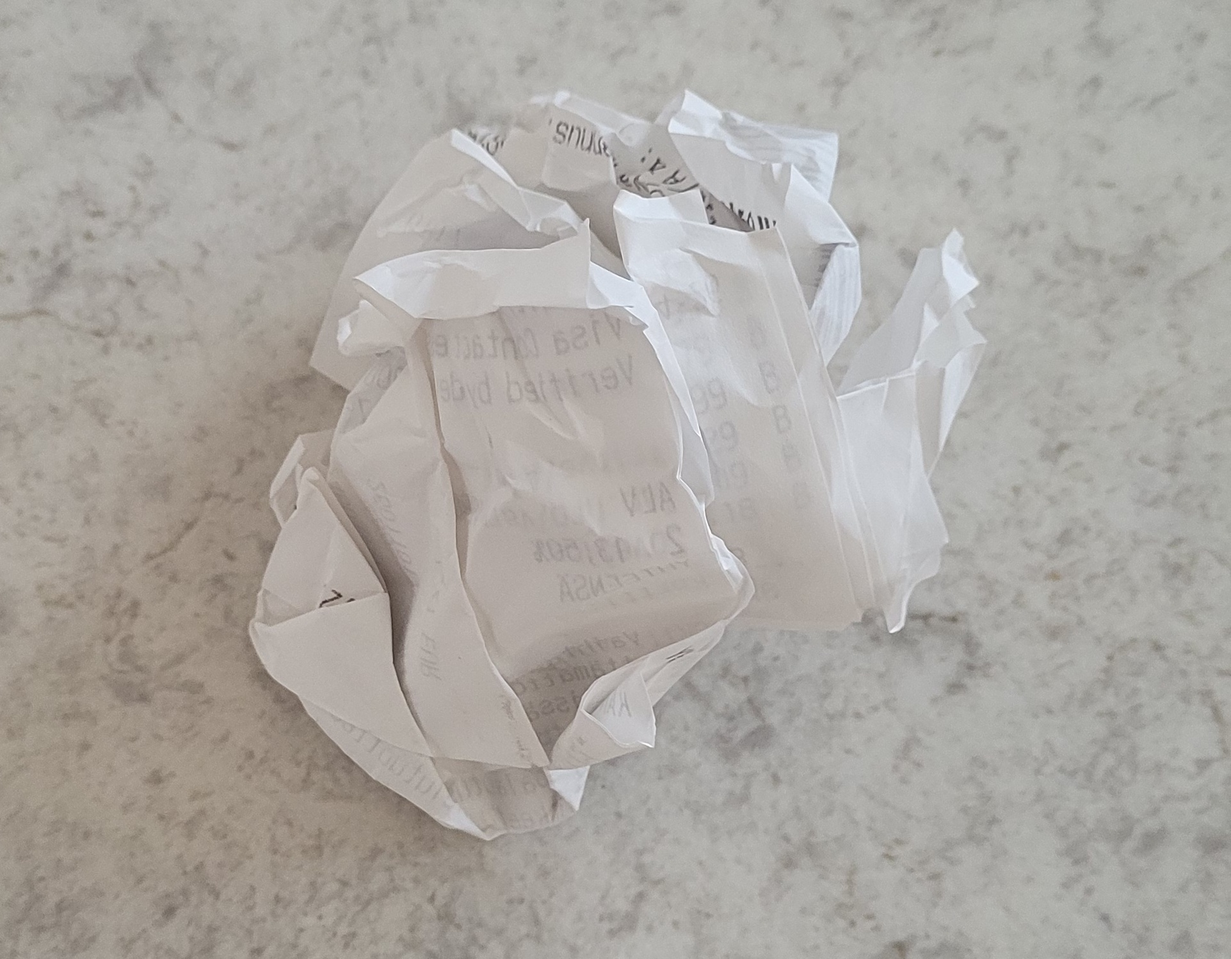paper: (245, 83, 993, 843)
